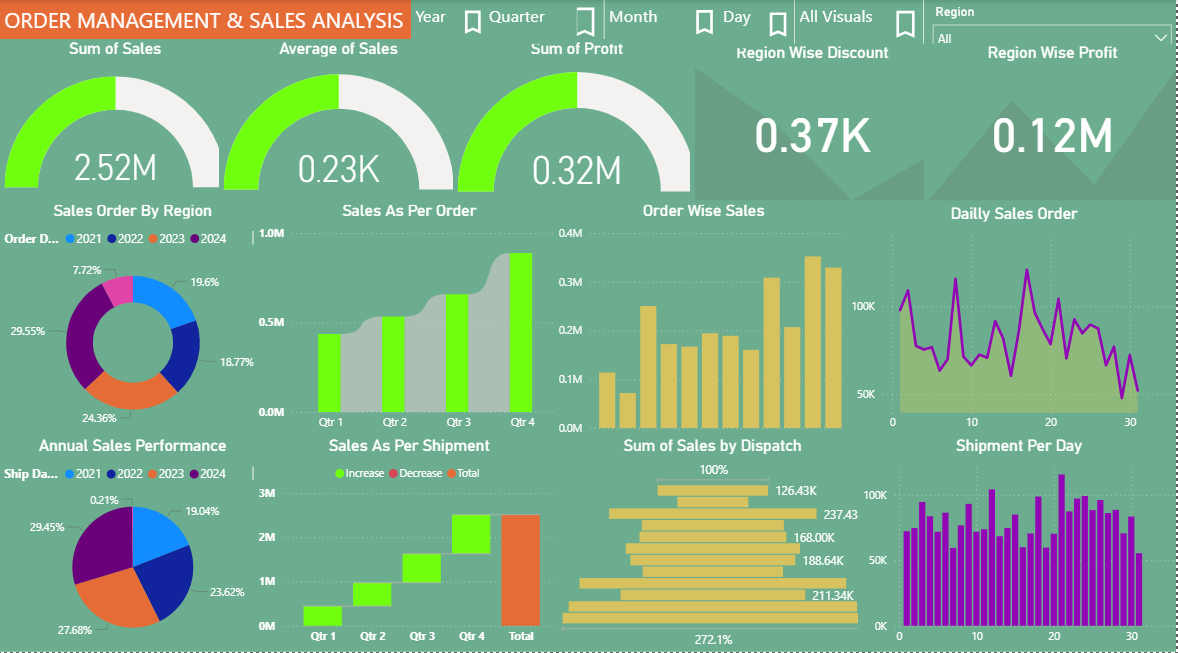

The dashboard page shown, as its layout file describes it:
{"tool":"powerbi","page":{"name":"Page 1","canvas":[1332,739],"ordinal":0},"visuals":[{"type":"donutChart","title":"Sales Order By Region","fields":{"Category":["Orders.Order Date.Variation.Date Hierarchy.Year"],"Y":["Sum(Orders.Sales)"]},"box":[0,227.7,300.8,269.2],"z":0},{"type":"pieChart","title":"Annual Sales Performance","fields":{"Category":["Orders.Ship Date.Variation.Date Hierarchy.Year"],"Y":["Sum(Orders.Sales)"]},"box":[0,495.4,300.4,244.2],"z":1000},{"type":"ribbonChart","title":"Sales As Per Order","fields":{"Category":["Orders.Order Date.Variation.Date Hierarchy.Quarter"],"Y":["Sum(Orders.Sales)"]},"box":[288.1,228.4,353.1,268.8],"z":2000},{"type":"waterfallChart","title":"Sales As Per Shipment","fields":{"Category":["Orders.Ship Date.Variation.Date Hierarchy.Quarter"],"Y":["Sum(Orders.Sales)"]},"box":[288.1,495.4,353.1,244.2],"z":3000},{"type":"columnChart","title":"Order Wise Sales","fields":{"Category":["Orders.Order Date.Variation.Date Hierarchy.Month"],"Y":["Sum(Orders.Sales)"]},"box":[628.2,227.7,340.7,270.9],"z":4000},{"type":"funnel","title":"Sum of Sales by Dispatch","fields":{"Category":["Orders.Ship Date.Variation.Date Hierarchy.Month"],"Y":["Sum(Orders.Sales)"]},"box":[628.2,495.3,360.6,244.3],"z":5000},{"type":"stackedAreaChart","title":"Dailly Sales Order","fields":{"Category":["Orders.Order Date.Variation.Date Hierarchy.Day"],"Y":["Sum(Orders.Sales)"]},"box":[959.2,231.9,381.2,265.3],"z":6000},{"type":"lineStackedColumnComboChart","title":"Shipment Per Day","fields":{"Category":["Orders.Ship Date.Variation.Date Hierarchy.Day"],"Y":["Sum(Orders.Sales)"]},"box":[973.3,495.4,365.4,244.2],"z":7000},{"type":"actionButton","box":[518.5,0,34.9,49.9],"z":8000},{"type":"actionButton","box":[641.5,0,43.2,49.9],"z":9000},{"type":"actionButton","box":[781.1,0,36.6,49.9],"z":10000},{"type":"actionButton","box":[864.2,0,36.6,54.8],"z":11000},{"type":"actionButton","box":[1007.1,0,39.9,54.8],"z":12000},{"type":"textbox","box":[0,0,470.3,49.9],"z":13000},{"type":"gauge","fields":{"Y":["Sum(Orders.Sales)"]},"box":[0,44.9,260.9,187.8],"z":14000},{"type":"gauge","fields":{"Y":["Avg(Orders.Sales)"]},"box":[247.6,44.9,270.9,187.8],"z":15000},{"type":"gauge","fields":{"Y":["Sum(Orders.Profit)"]},"box":[513.5,44.9,280.9,187.8],"z":16000},{"type":"kpi","title":"Region Wise Discount","fields":{"Indicator":["Sum(Orders$FilterDatabase.Discount)"],"TrendLine":["Orders$FilterDatabase.Region"]},"box":[781.8,49.2,277.6,182.7],"z":17000},{"type":"kpi","title":"Region Wise Profit","fields":{"Indicator":["Sum(Orders$FilterDatabase.Profit)"],"TrendLine":["Orders$FilterDatabase.Region"]},"box":[1047,49.2,291.6,182.7],"z":18000},{"type":"slicer","fields":{"Values":["Orders.Region"]},"box":[1047,0,290.8,49.9],"z":19000},{"type":"textbox","box":[465.3,0,53.2,49.9],"z":20000},{"type":"textbox","box":[548.4,0,104.7,49.9],"z":21000},{"type":"textbox","box":[684.7,0,96.4,49.9],"z":22000},{"type":"textbox","box":[814.4,0,49.9,54.8],"z":23000},{"type":"textbox","box":[900.8,0,108,49.9],"z":24000}]}

Visuals, with their boxes in screenshot pixels (x1, y1, x2, y2), scaled from the page's 1332x739 canvas onto the 1178x653 screenshot:
"Sales Order By Region" donutChart: 0 201 266 439
"Annual Sales Performance" pieChart: 0 438 266 652
"Sales As Per Order" ribbonChart: 255 202 567 439
"Sales As Per Shipment" waterfallChart: 255 438 567 652
"Order Wise Sales" columnChart: 556 201 857 441
"Sum of Sales by Dispatch" funnel: 556 438 874 652
"Dailly Sales Order" stackedAreaChart: 848 205 1177 439
"Shipment Per Day" lineStackedColumnComboChart: 861 438 1177 652
actionButton: 459 0 489 44
actionButton: 567 0 606 44
actionButton: 691 0 723 44
actionButton: 764 0 797 48
actionButton: 891 0 926 48
textbox: 0 0 416 44
gauge - Sum(Orders.Sales): 0 40 231 206
gauge - Avg(Orders.Sales): 219 40 459 206
gauge - Sum(Orders.Profit): 454 40 703 206
"Region Wise Discount" kpi: 691 43 937 205
"Region Wise Profit" kpi: 926 43 1177 205
slicer - Orders.Region: 926 0 1177 44
textbox: 412 0 459 44
textbox: 485 0 578 44
textbox: 606 0 691 44
textbox: 720 0 764 48
textbox: 797 0 892 44
